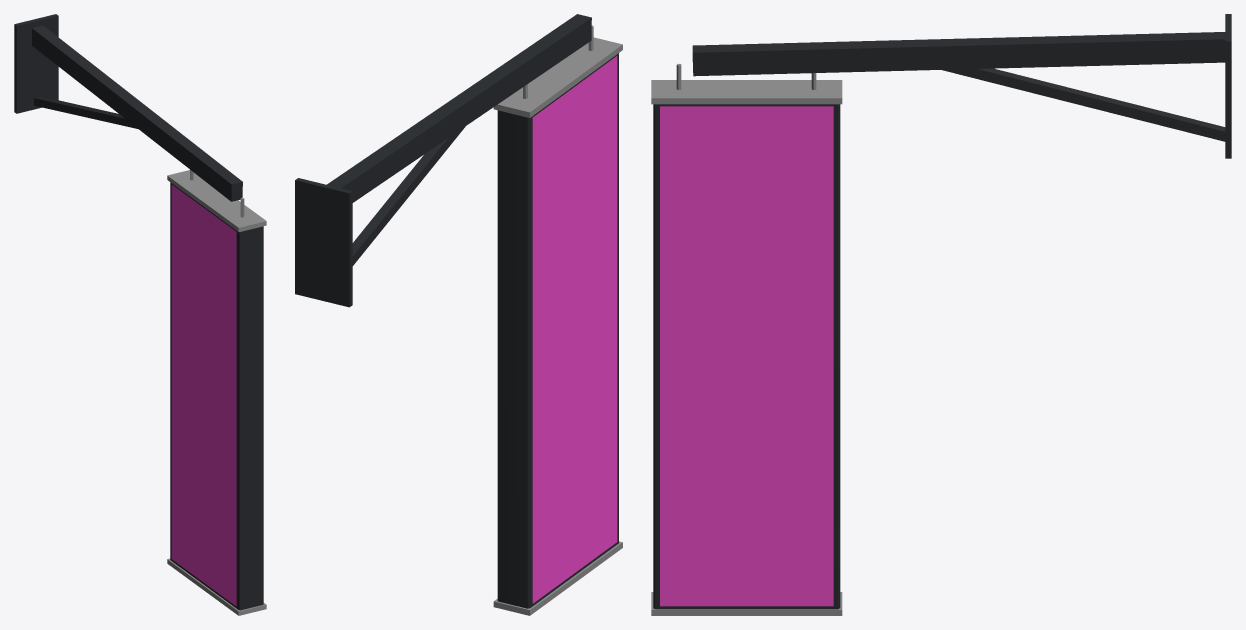
File: St_HangingSign_B.fbx
The picture shows the model from 3 angles, left to right: view 1: azimuth 30°, elevation 25°; view 2: azimuth 150°, elevation 25°; view 3: azimuth 270°, elevation 25°; orthographic projection. The views are drawn at different scales.
Parts seen in each view (by area): view 1: St_HangingSign_B_LOD0; view 2: St_HangingSign_B_LOD0; view 3: St_HangingSign_B_LOD0.
Part boxes in pixels (x1,y1,x2,y2): St_HangingSign_B_LOD0: (14, 14, 266, 615); St_HangingSign_B_LOD0: (295, 14, 622, 615); St_HangingSign_B_LOD0: (651, 14, 1231, 615).
Size of what is drawn, in the model's own units: 0.3 by 2.97 by 2.69.
